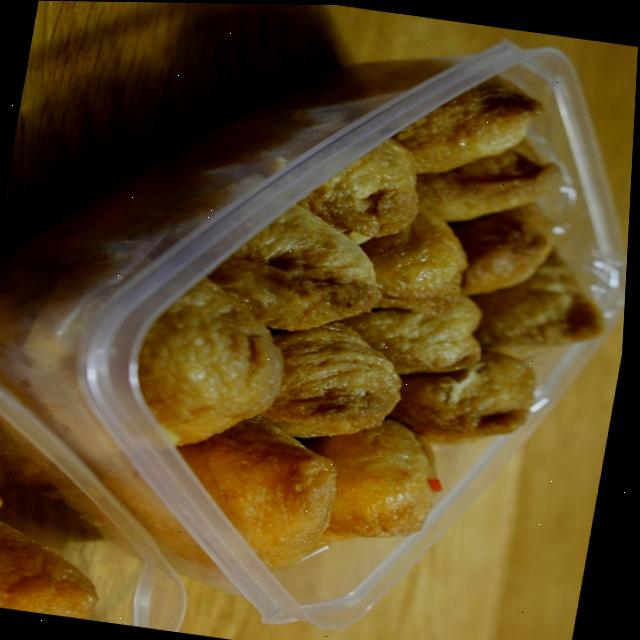寿司卷物: (35, 1, 640, 640)
